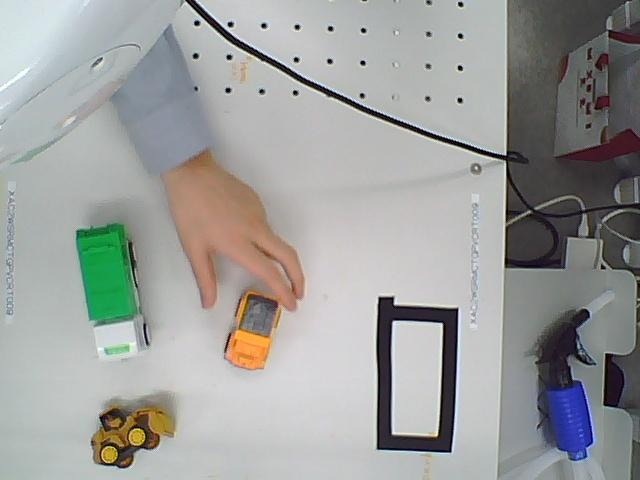Diesel car: (223, 285, 282, 383)
Electric car: (70, 215, 159, 365)
Gasoline car: (88, 396, 177, 471)
